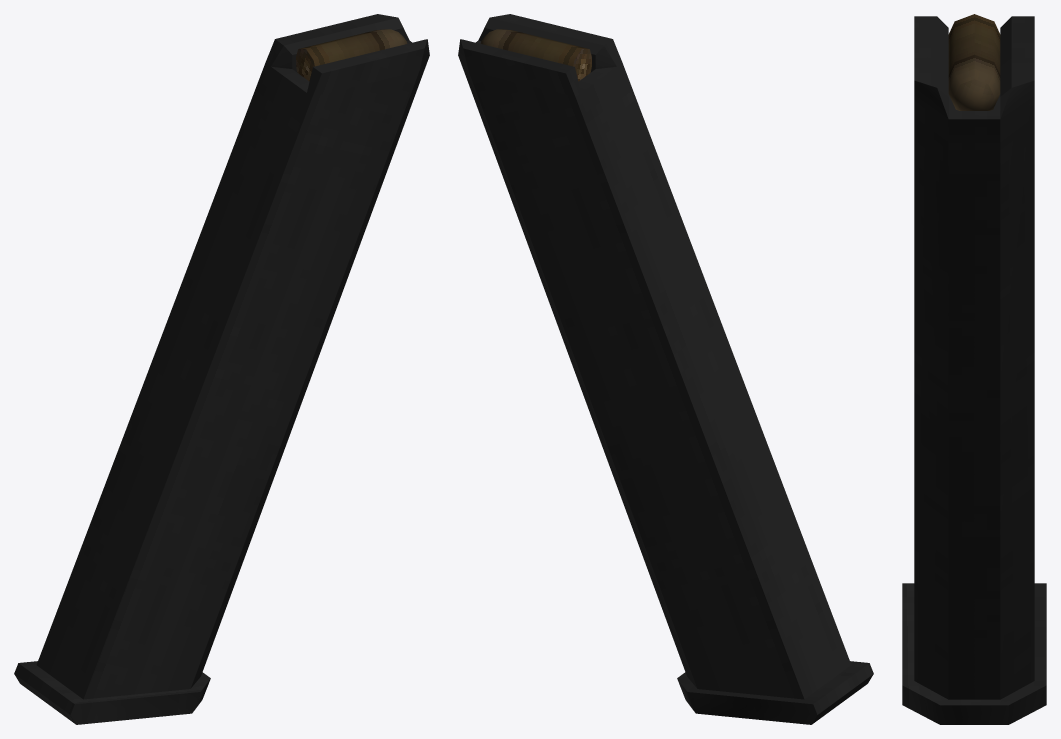
The model's file is pistol_mp_1_mag_extended_loaded.glb.
The picture shows the model from 3 angles, left to right: view 1: azimuth 30°, elevation 25°; view 2: azimuth 150°, elevation 25°; view 3: azimuth 270°, elevation 25°; orthographic projection. The views are drawn at different scales.
Parts seen in each view (by area): view 1: pistol_mp_1_mag_extended_loaded; view 2: pistol_mp_1_mag_extended_loaded; view 3: pistol_mp_1_mag_extended_loaded.
Boxes of the visible parts, x1,y1,x2,y2 form: pistol_mp_1_mag_extended_loaded: [14, 14, 429, 724]; pistol_mp_1_mag_extended_loaded: [458, 14, 873, 724]; pistol_mp_1_mag_extended_loaded: [902, 14, 1046, 724].
Size of the model in its own units: 0.1391 by 0.2158 by 0.036.
2 materials, 2 textured.
